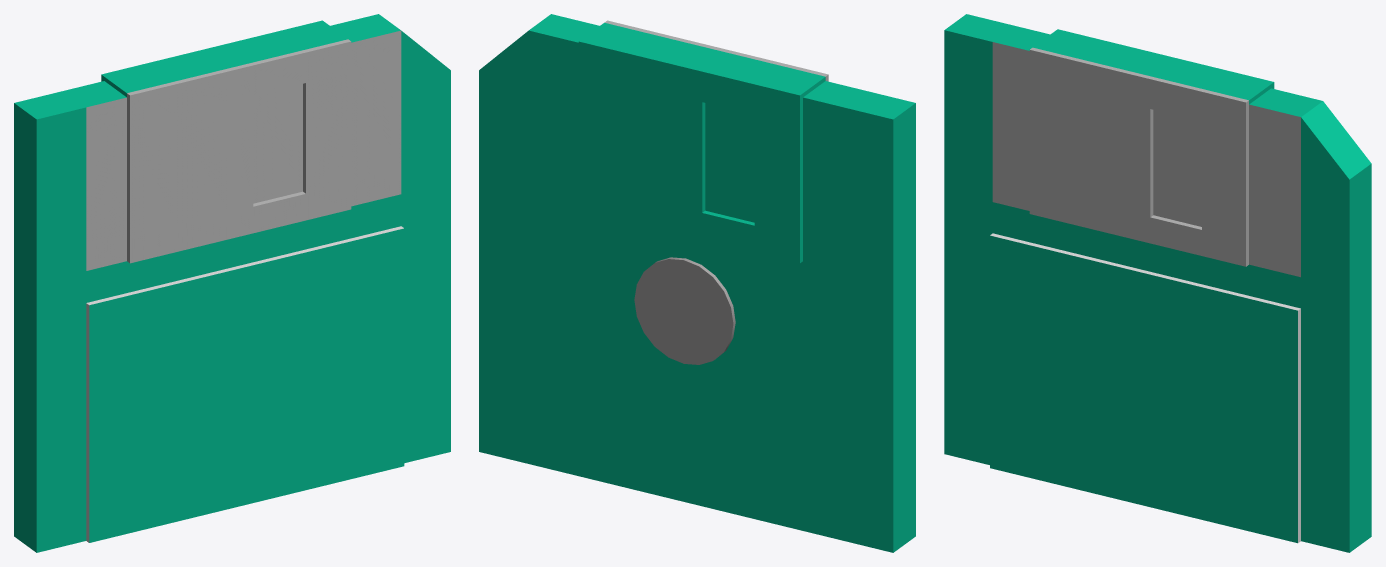
Rendered from floppy2.fbx.
The picture shows the model from 3 angles, left to right: view 1: azimuth 30°, elevation 25°; view 2: azimuth 150°, elevation 25°; view 3: azimuth 330°, elevation 25°; orthographic projection. The views are drawn at different scales.
Visible parts, largest first — view 1: pCube3; view 2: pCube3, pCylinder1; view 3: pCube3.
Boxes of the visible parts, x1,y1,x2,y2 form: pCube3: [14, 14, 450, 552]; pCube3: [479, 14, 915, 552]; pCylinder1: [634, 257, 735, 364]; pCube3: [944, 14, 1371, 552].
Size of the model in its own units: 1 by 1.01 by 0.1201.
